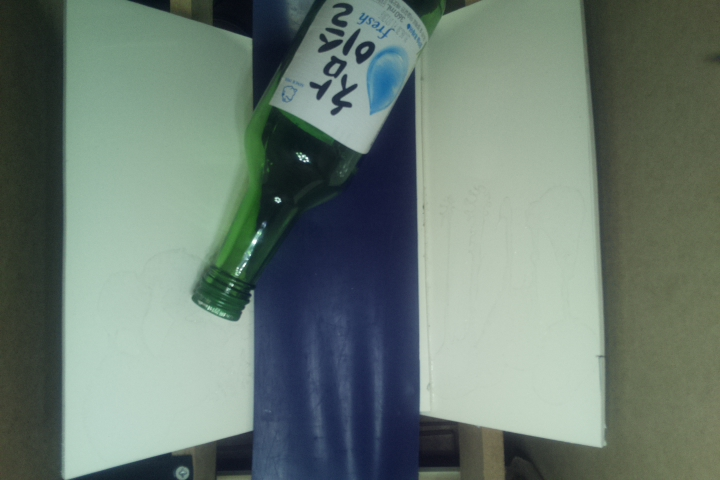soju: (186, 1, 450, 325)
